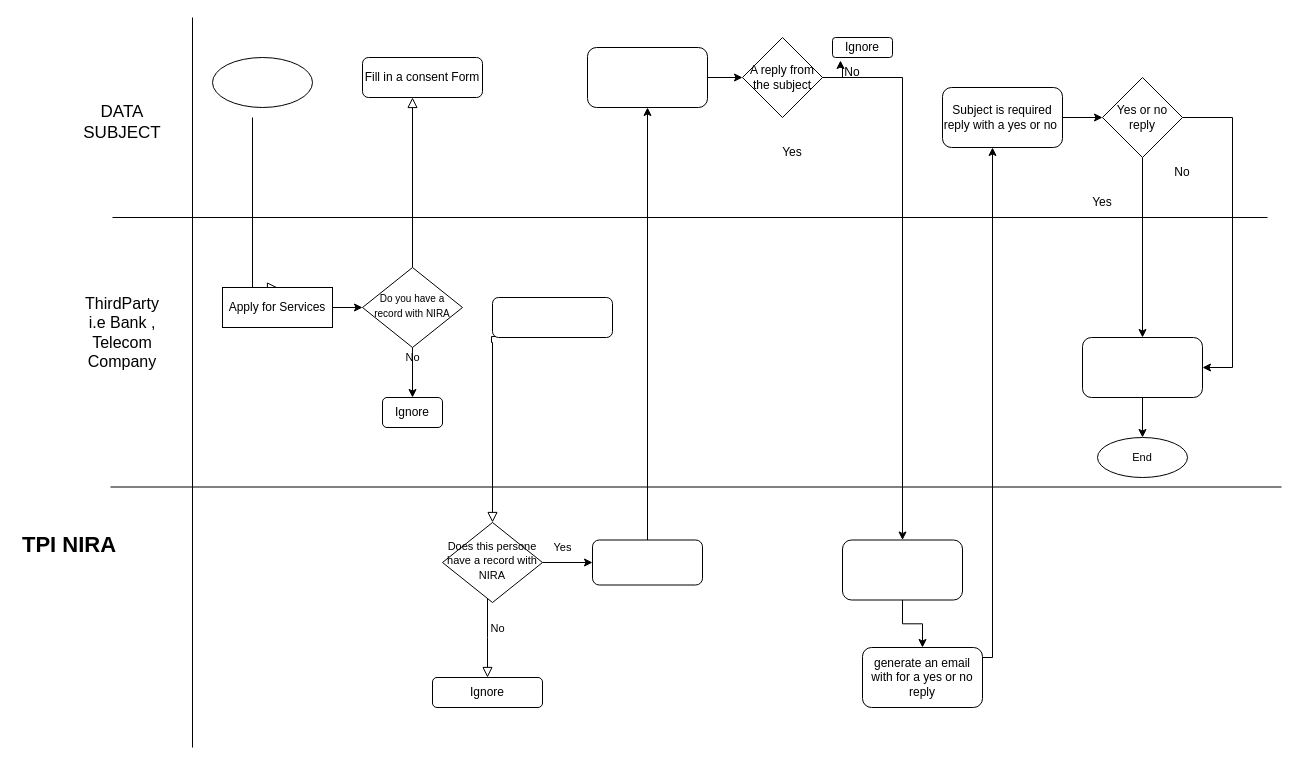
Some shapes in this 1300 by 766 pixel diagram are drawn without their labels. Here are the shapes that lost their labels. From the top down, the box of each, then its label:
(212, 56, 312, 108): Start
(586, 46, 708, 108): A text message with details on how to respond
(492, 296, 612, 338): The enitity will create a consent ID
(1082, 336, 1202, 398): Expose information to the third party
(592, 539, 702, 585): generate a SMS to expose to the user
(842, 539, 962, 600): Cross check information with NIRA
